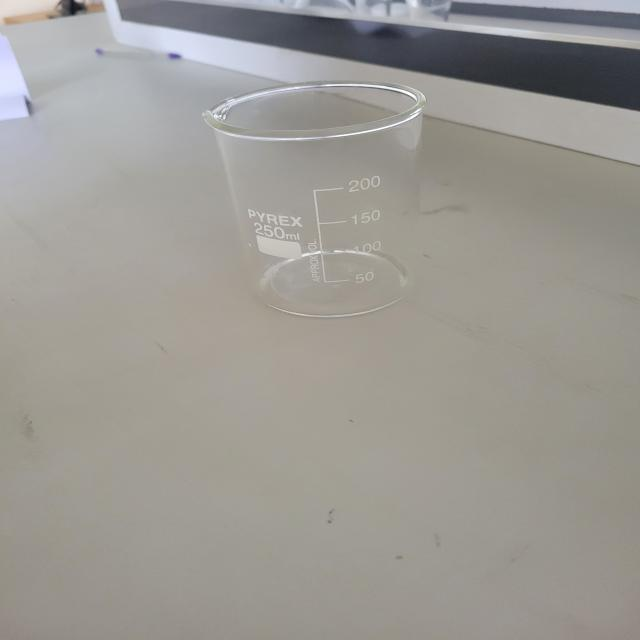Beaker: (195, 78, 441, 325)
